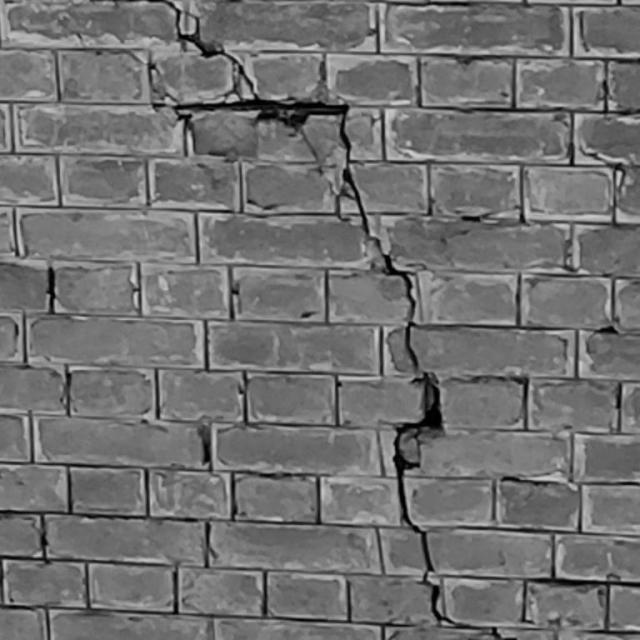crack: (148, 1, 516, 640)
